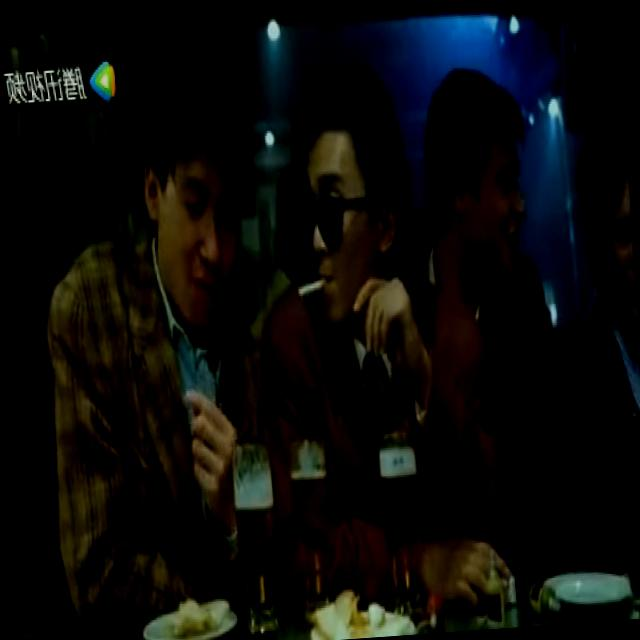cigarette: (290, 276, 329, 302)
